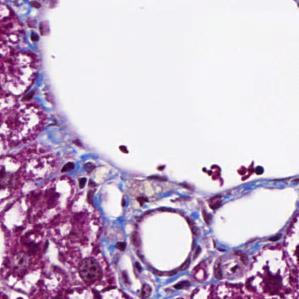inflammation: (60, 160, 89, 190), (238, 159, 266, 184), (29, 28, 40, 43)
